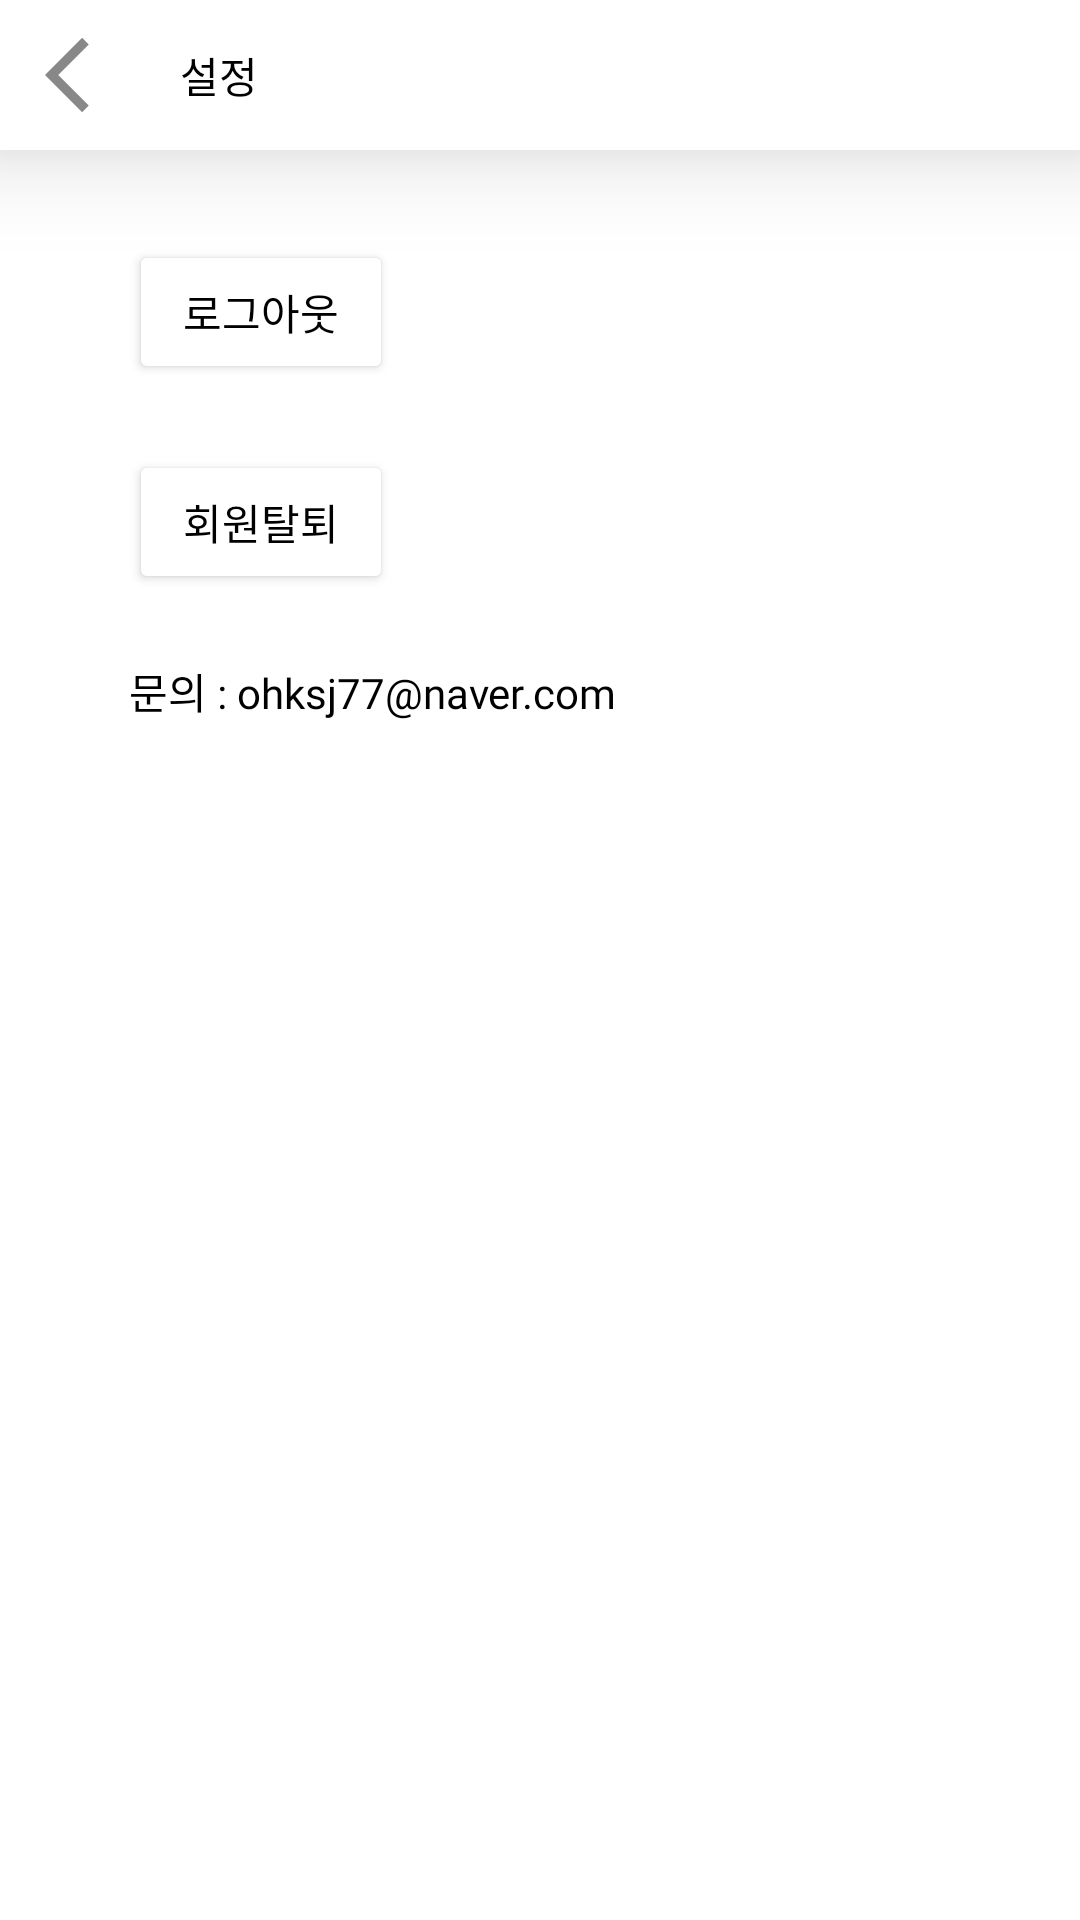

Where icons sit on this 1080×1920 app screen, as {"left": x1, "top": y1, "right": x2, "bottom": y2}:
뒤로가기: {"left": 45, "top": 38, "right": 89, "bottom": 112}
